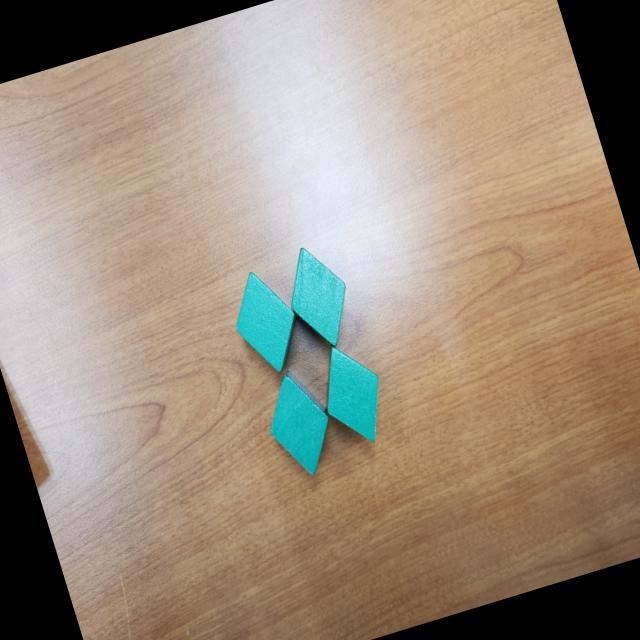green: (254, 361, 344, 481), (222, 263, 310, 382), (275, 239, 363, 357), (310, 336, 398, 454)
